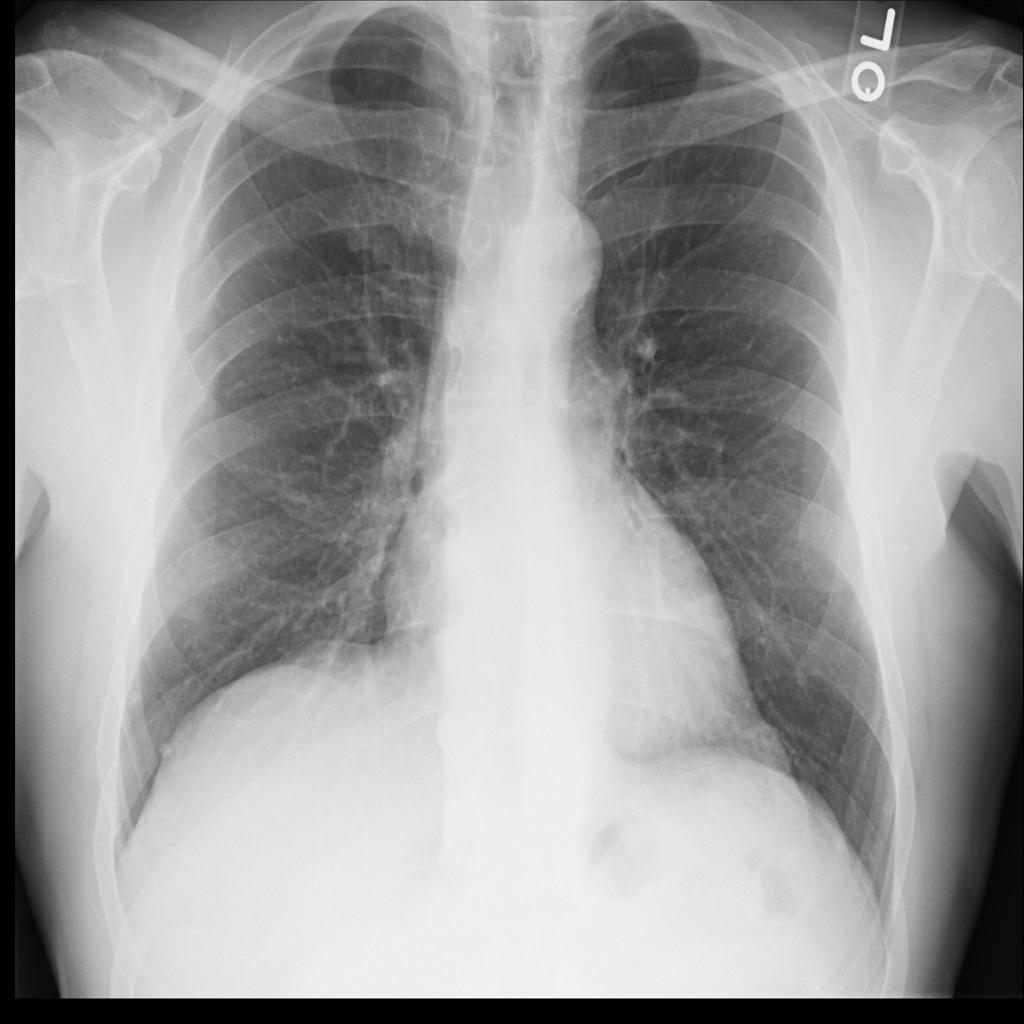nodule: (114, 668, 162, 721), (152, 727, 186, 768)
